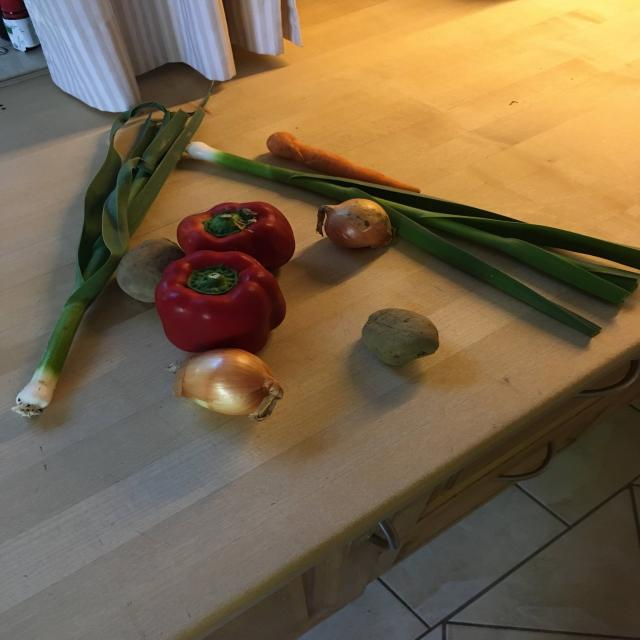Carrot: (260, 127, 423, 196)
Potato: (109, 232, 193, 306), (357, 304, 445, 371)
